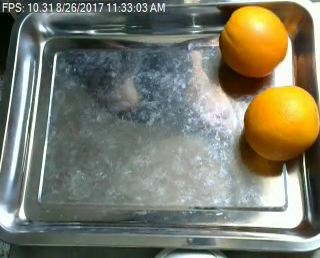Orange: (242, 84, 319, 159), (214, 6, 287, 78)
